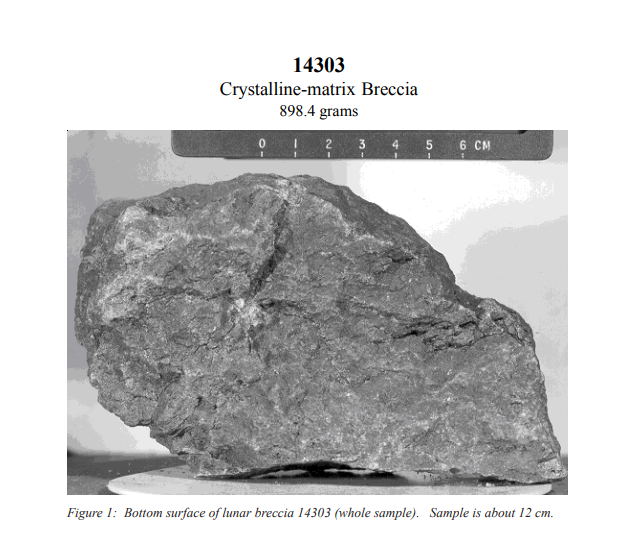Breccia: (85, 167, 561, 490)
